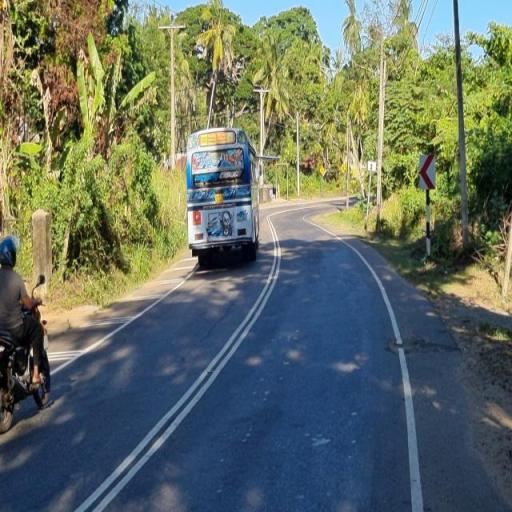double_white_line: (74, 213, 284, 511)
